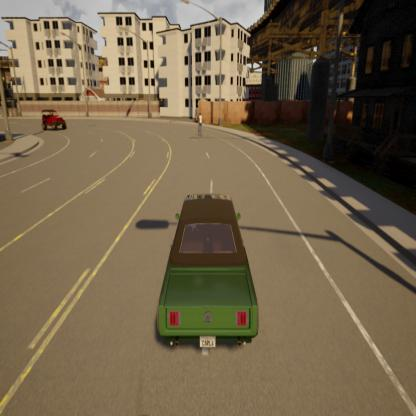Cars: (148, 173, 264, 369), (39, 103, 67, 135)
